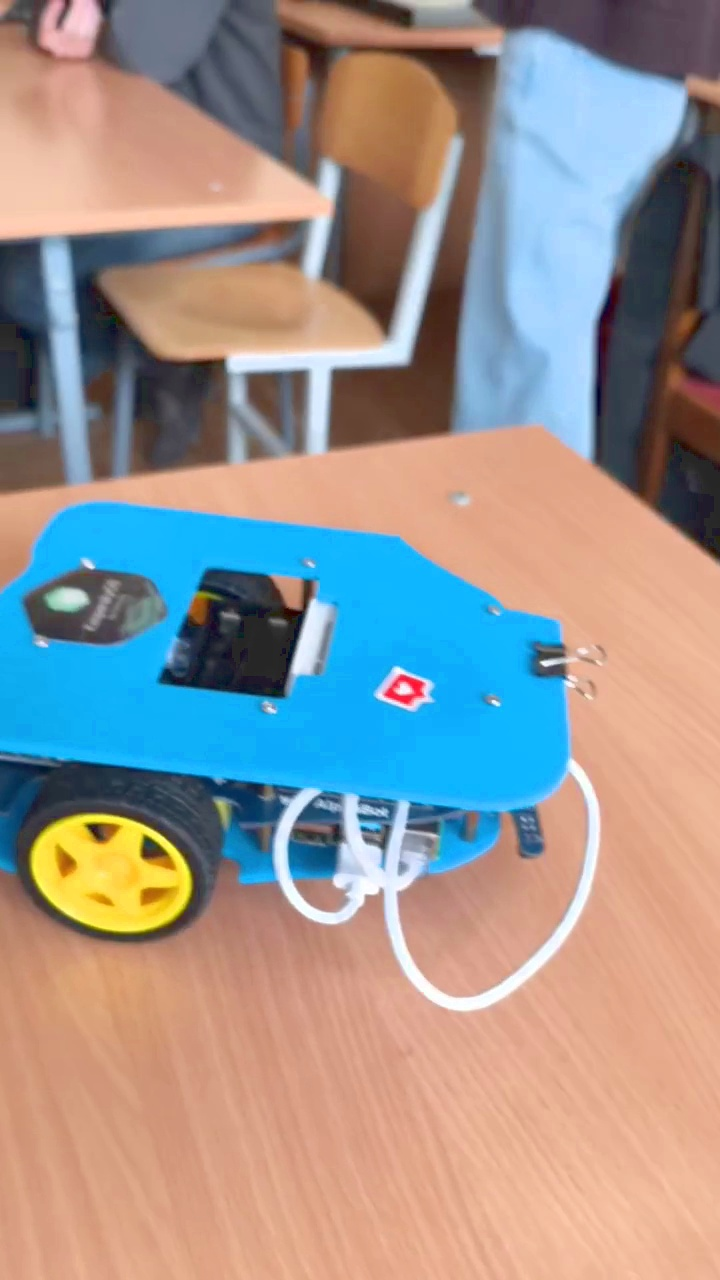robot: (1, 499, 606, 1010)
